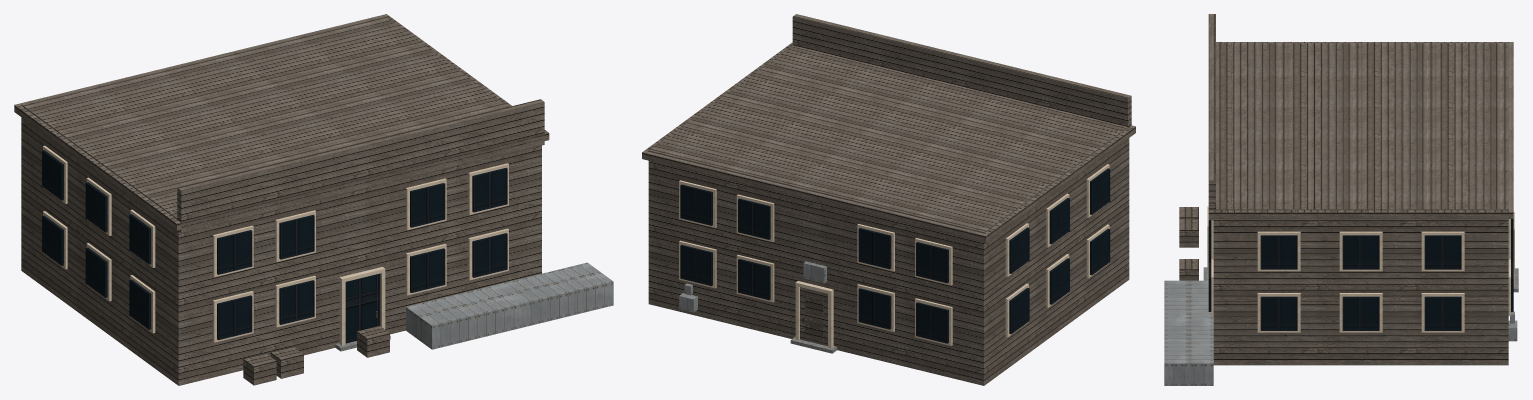
Rendered from otter-creek-feed-store_lod0.gltf.
The picture shows the model from 3 angles, left to right: view 1: azimuth 30°, elevation 25°; view 2: azimuth 150°, elevation 25°; view 3: azimuth 270°, elevation 25°; orthographic projection. The views are drawn at different scales.
Visible parts, largest first — view 1: otter-creek-feed-store_main, otter-creek-feed-store_fen_07-glass-curtain-blue_1_t, otter-creek-feed-store__false_front, otter-creek-feed-store__loading_dock, otter-creek-feed-store_fen_04-limestone_0, otter-creek-feed-store__cornice, otter-creek-feed-store__feed_sack_a, otter-creek-feed-store__feed_sack_c, otter-creek-feed-store__feed_sack_b; view 2: otter-creek-feed-store_main, otter-creek-feed-store_fen_07-glass-curtain-blue_1_t, otter-creek-feed-store__false_front, otter-creek-feed-store_fen_04-limestone_0, otter-creek-feed-store__cornice, otter-creek-feed-store_fen_18-timber-siding_4, otter-creek-feed-store_fen_14-steel-panel_6, otter-creek-feed-store_fen_18-timber-siding_5_t; view 3: otter-creek-feed-store_main, otter-creek-feed-store_fen_07-glass-curtain-blue_1_t, otter-creek-feed-store__loading_dock, otter-creek-feed-store_fen_04-limestone_0, otter-creek-feed-store__cornice, otter-creek-feed-store__false_front, otter-creek-feed-store__feed_sack_b, otter-creek-feed-store__feed_sack_c.
Part boxes in pixels (bbox=[...]): otter-creek-feed-store_main: bbox=[21, 16, 541, 385]; otter-creek-feed-store_fen_07-glass-curtain-blue_1_t: bbox=[42, 150, 507, 343]; otter-creek-feed-store__false_front: bbox=[177, 99, 544, 233]; otter-creek-feed-store__loading_dock: bbox=[406, 262, 613, 349]; otter-creek-feed-store_fen_04-limestone_0: bbox=[43, 145, 508, 345]; otter-creek-feed-store__cornice: bbox=[14, 14, 549, 230]; otter-creek-feed-store__feed_sack_a: bbox=[243, 353, 276, 385]; otter-creek-feed-store__feed_sack_c: bbox=[357, 325, 389, 357]; otter-creek-feed-store__feed_sack_b: bbox=[270, 346, 303, 378]; otter-creek-feed-store_main: bbox=[648, 45, 1129, 385]; otter-creek-feed-store_fen_07-glass-curtain-blue_1_t: bbox=[680, 168, 1110, 343]; otter-creek-feed-store__false_front: bbox=[792, 14, 1131, 127]; otter-creek-feed-store_fen_04-limestone_0: bbox=[679, 164, 1109, 348]; otter-creek-feed-store__cornice: bbox=[642, 42, 1135, 242]; otter-creek-feed-store_fen_18-timber-siding_4: bbox=[800, 287, 827, 346]; otter-creek-feed-store_fen_14-steel-panel_6: bbox=[679, 261, 826, 312]; otter-creek-feed-store_fen_18-timber-siding_5_t: bbox=[805, 295, 823, 342]; otter-creek-feed-store_main: bbox=[1213, 43, 1508, 365]; otter-creek-feed-store_fen_07-glass-curtain-blue_1_t: bbox=[1208, 219, 1513, 330]; otter-creek-feed-store__loading_dock: bbox=[1164, 280, 1213, 385]; otter-creek-feed-store_fen_04-limestone_0: bbox=[1207, 206, 1514, 332]; otter-creek-feed-store__cornice: bbox=[1208, 42, 1513, 218]; otter-creek-feed-store__false_front: bbox=[1208, 14, 1215, 220]; otter-creek-feed-store__feed_sack_b: bbox=[1179, 219, 1198, 247]; otter-creek-feed-store__feed_sack_c: bbox=[1179, 259, 1198, 280].
Size of the model in its own units: 18.2 by 8.3 by 14.4.
